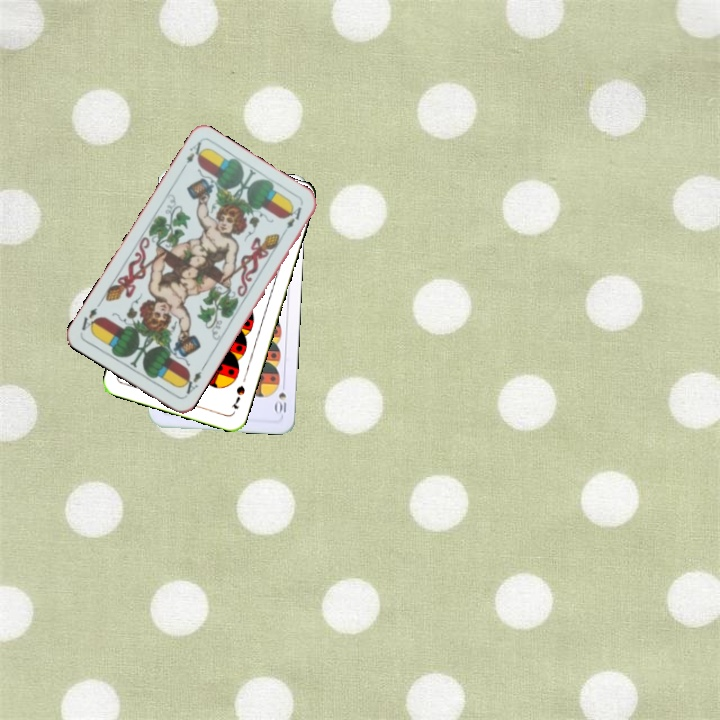EA: (177, 137, 207, 174), (178, 362, 207, 399)
S10: (272, 378, 289, 417)
S7: (227, 381, 247, 412)
